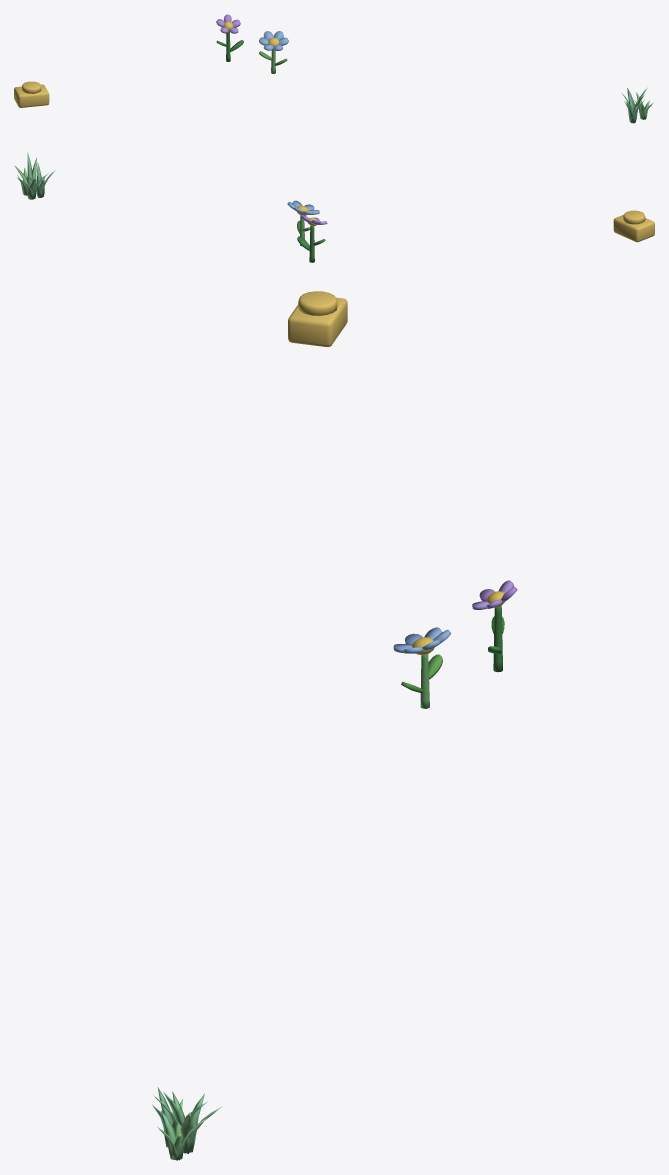
The model's file is W1_FloraRing_10_8.fbx.
3 renders of one model, top to bottom at view 1: azimuth 30°, elevation 25°; view 2: azimuth 150°, elevation 25°; view 3: azimuth 270°, elevation 25°, orthographic. The views are drawn at different scales.
Parts seen in each view (by area): view 1: W1_FloraRing_10_8; view 2: W1_FloraRing_10_8; view 3: W1_FloraRing_10_8.
Boxes of the visible parts, x1,y1,x2,y2 form: W1_FloraRing_10_8: (14, 14, 654, 123); W1_FloraRing_10_8: (14, 152, 654, 262); W1_FloraRing_10_8: (152, 291, 517, 1160).
Size of the model in its own units: 2.39 by 0.5666 by 0.6321.
